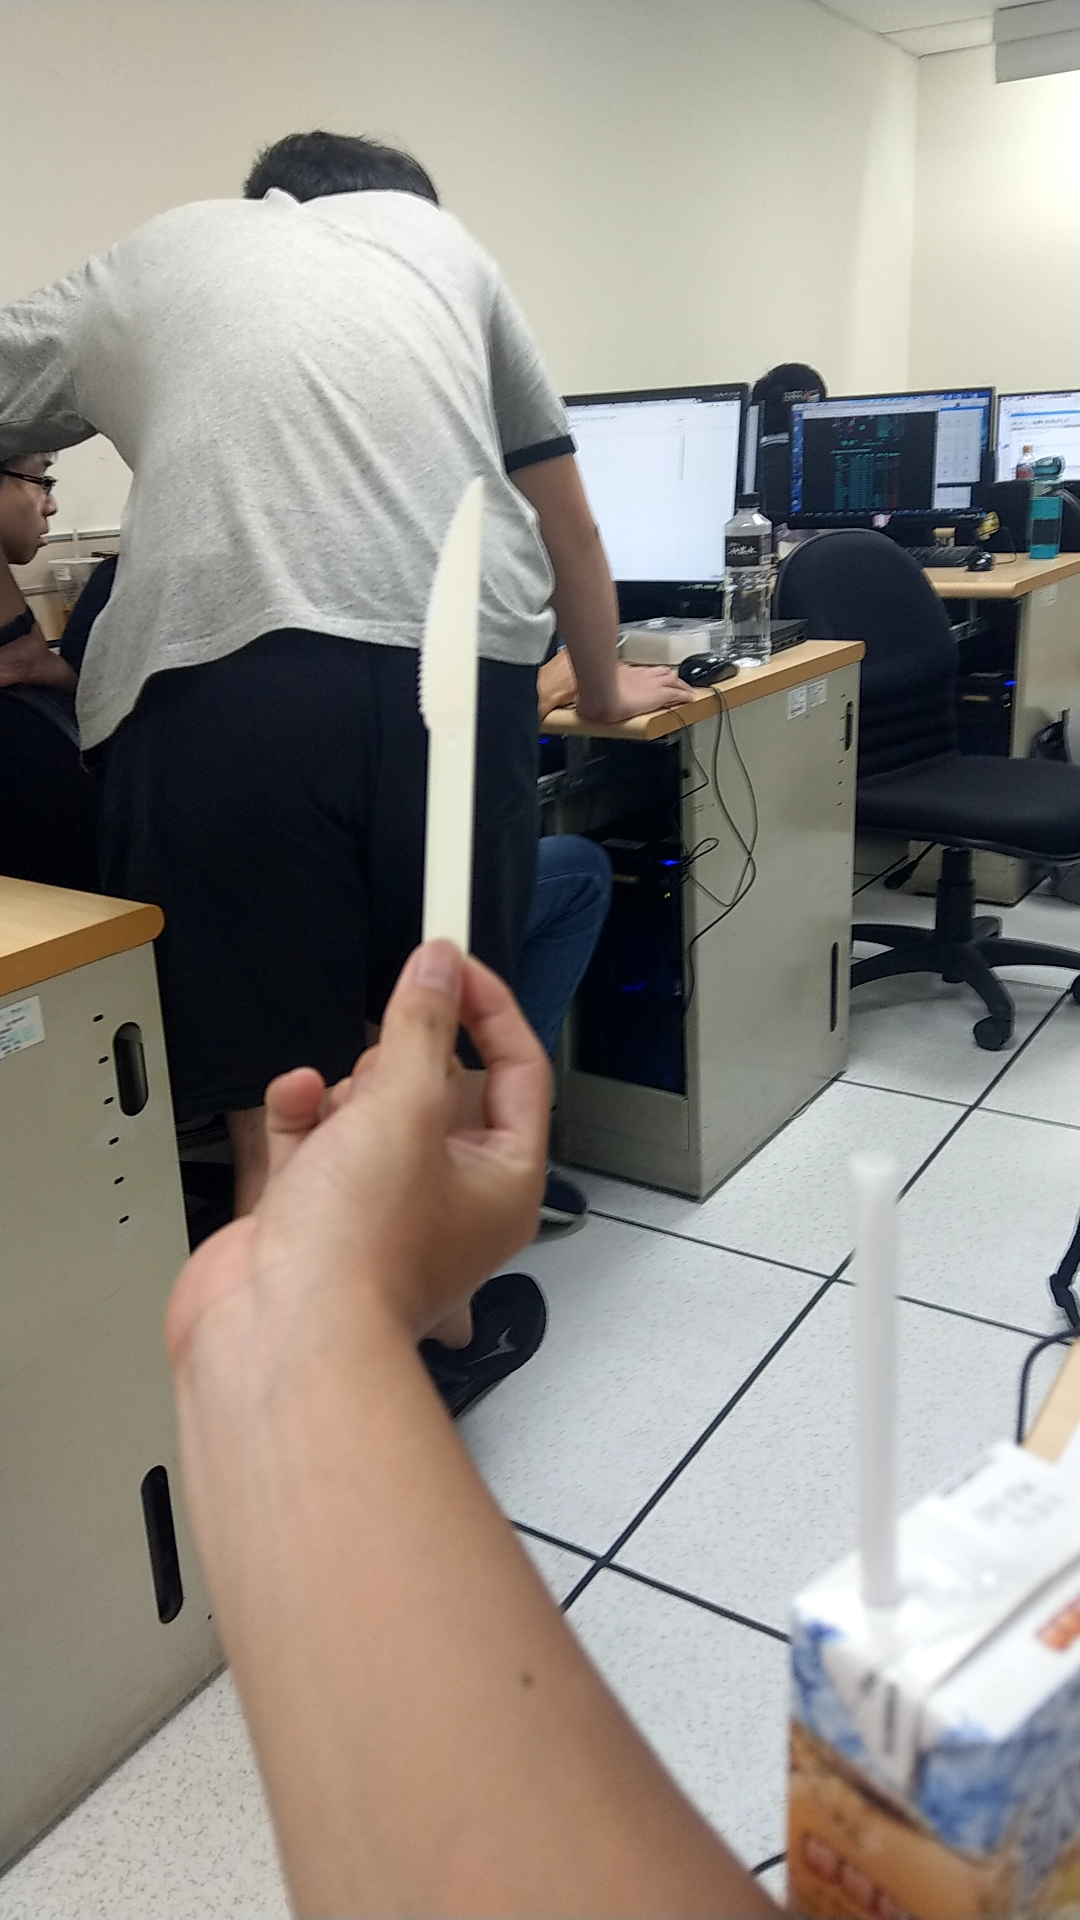knife: (404, 462, 508, 957)
